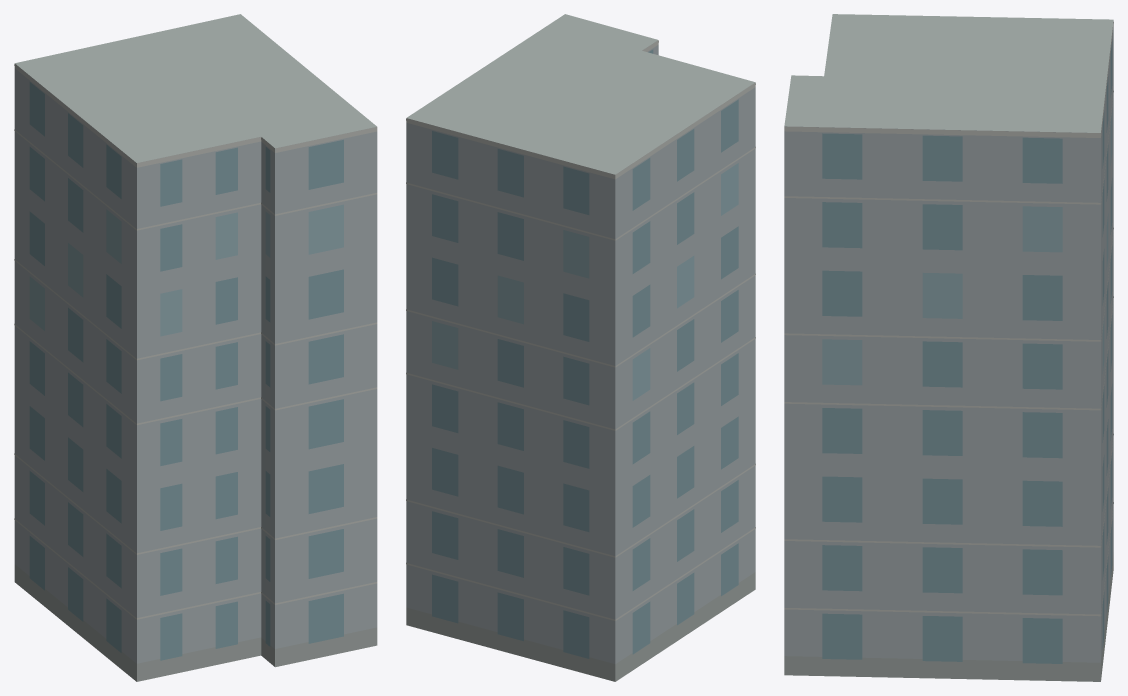
The model's file is survey-upis-33023167.glb.
The picture shows the model from 3 angles, left to right: view 1: azimuth 30°, elevation 25°; view 2: azimuth 150°, elevation 25°; view 3: azimuth 270°, elevation 25°; orthographic projection. The views are drawn at different scales.
Parts seen in each view (by area): view 1: survey-upis-33023167.tmp; view 2: survey-upis-33023167.tmp; view 3: survey-upis-33023167.tmp.
Part boxes in pixels (left/top/right/bottom): survey-upis-33023167.tmp: left=14, top=14, right=377, bottom=681; survey-upis-33023167.tmp: left=406, top=14, right=755, bottom=681; survey-upis-33023167.tmp: left=784, top=14, right=1113, bottom=681.
Size of the model in its own units: 12.36 by 26.5 by 14.44.
